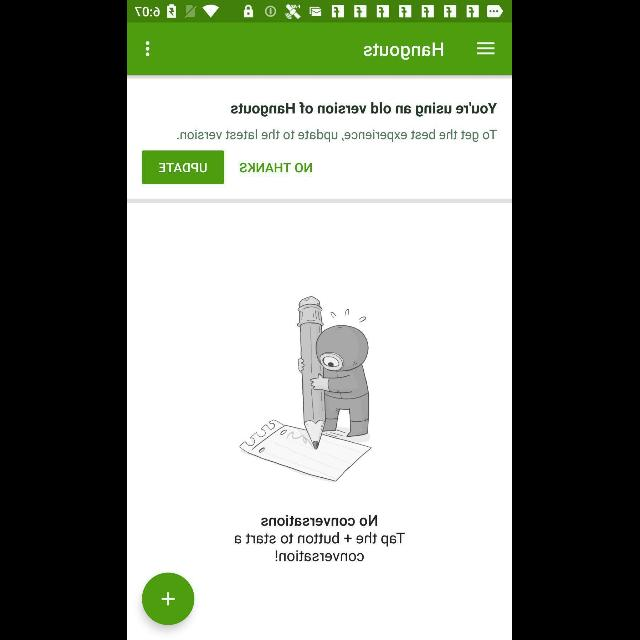button: (142, 572, 195, 626)
icon: (478, 42, 496, 56), (146, 41, 150, 57)
image: (240, 296, 372, 484)
text: (236, 514, 407, 562), (232, 102, 498, 118), (177, 130, 497, 142), (364, 43, 444, 61), (240, 163, 314, 173)
textbutton: (143, 150, 225, 184)
toolbar: (128, 23, 512, 75)
uppertaskbar: (128, 1, 512, 23)
